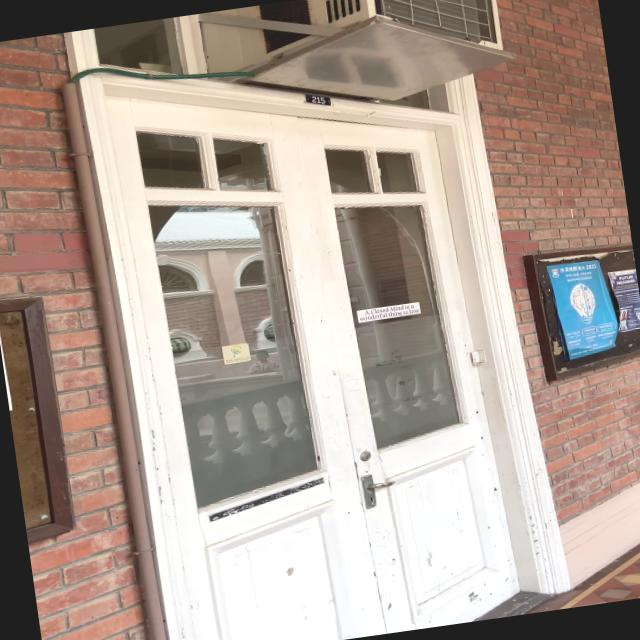room215: (304, 90, 332, 110)
